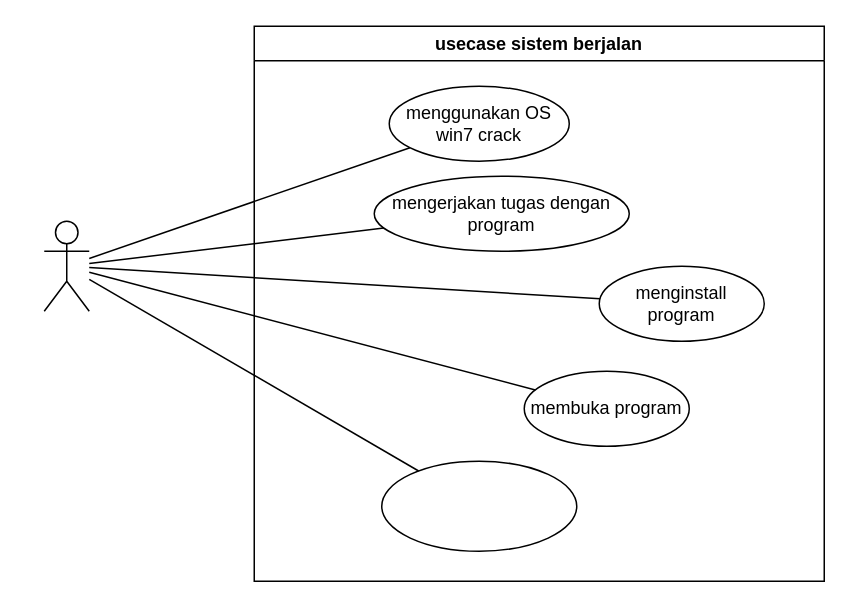
Some shapes in this 851 by 608 pixel diagram are drawn without their labels. The shapes that lost their labels are listed below. From the top down, each one's centre as x and y in pixels, then its label:
At [66,265]: "siswa TKJ".
At [478,505]: "mengoperasikan program".
